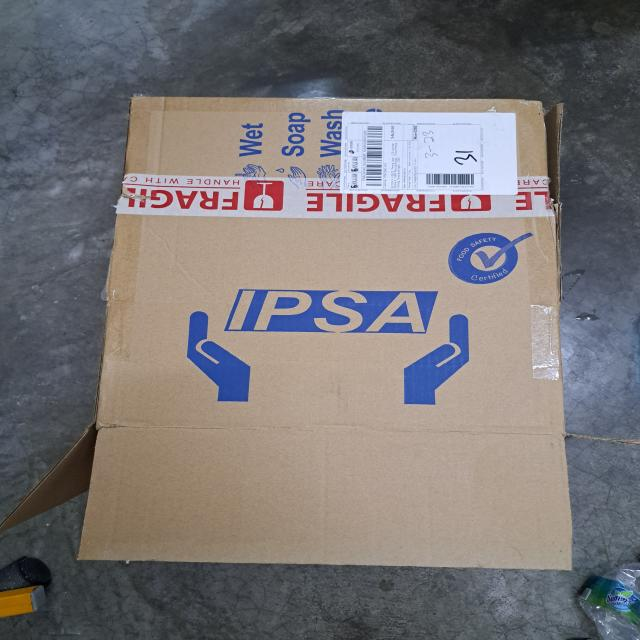cardboard: (23, 85, 586, 577)
